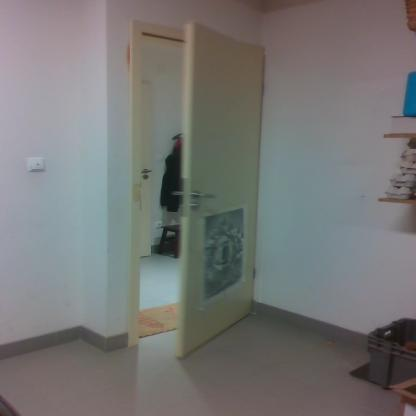semi: (120, 23, 272, 341)
